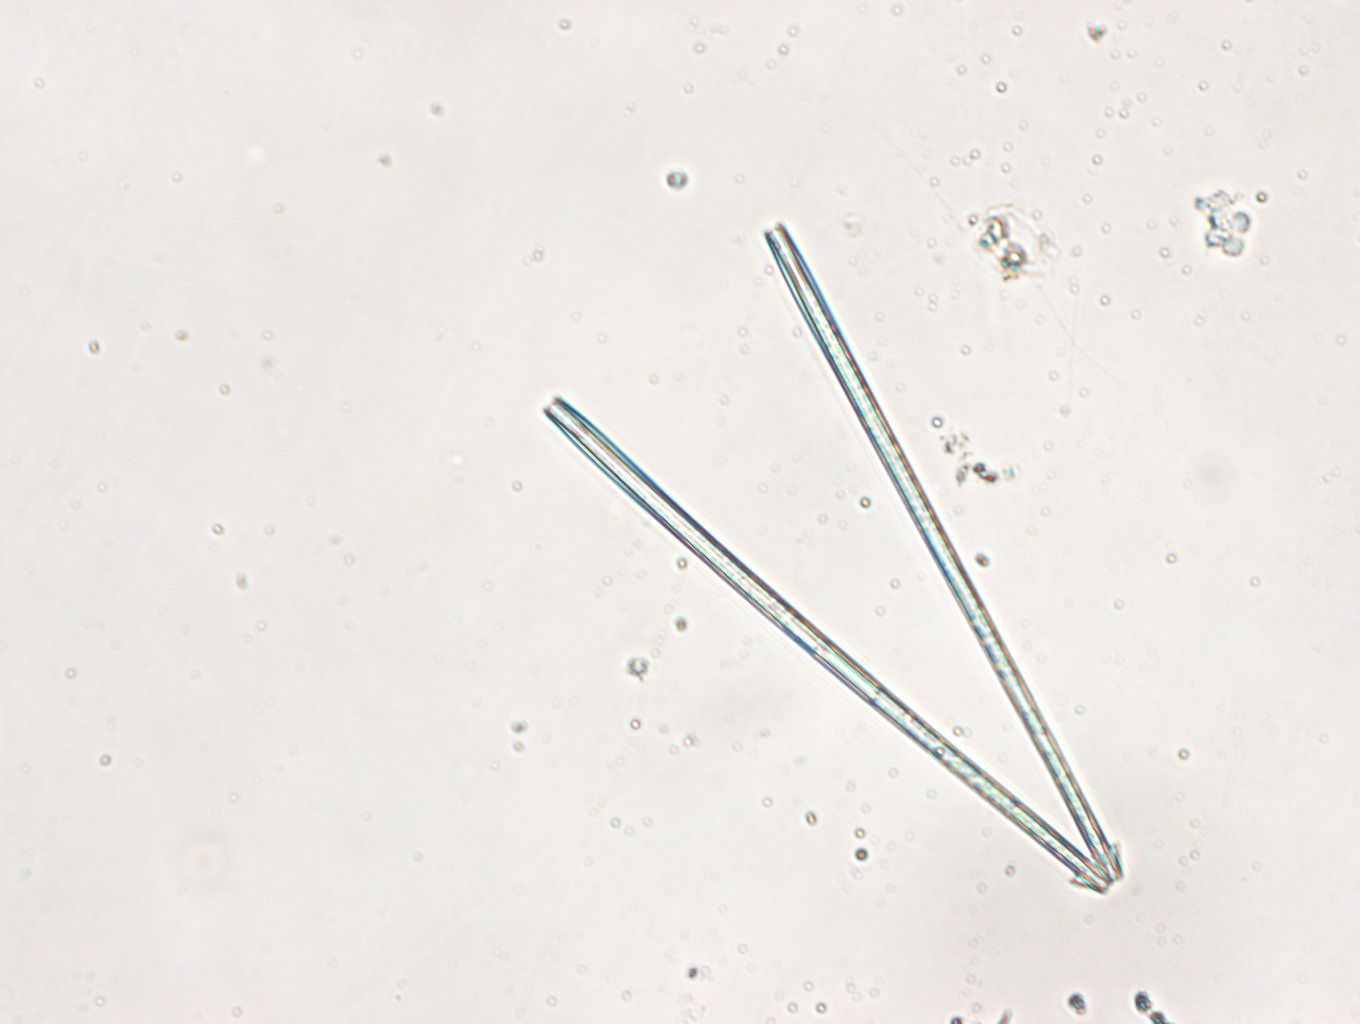thalassionema frauenfeldii: (540, 221, 1126, 894)
